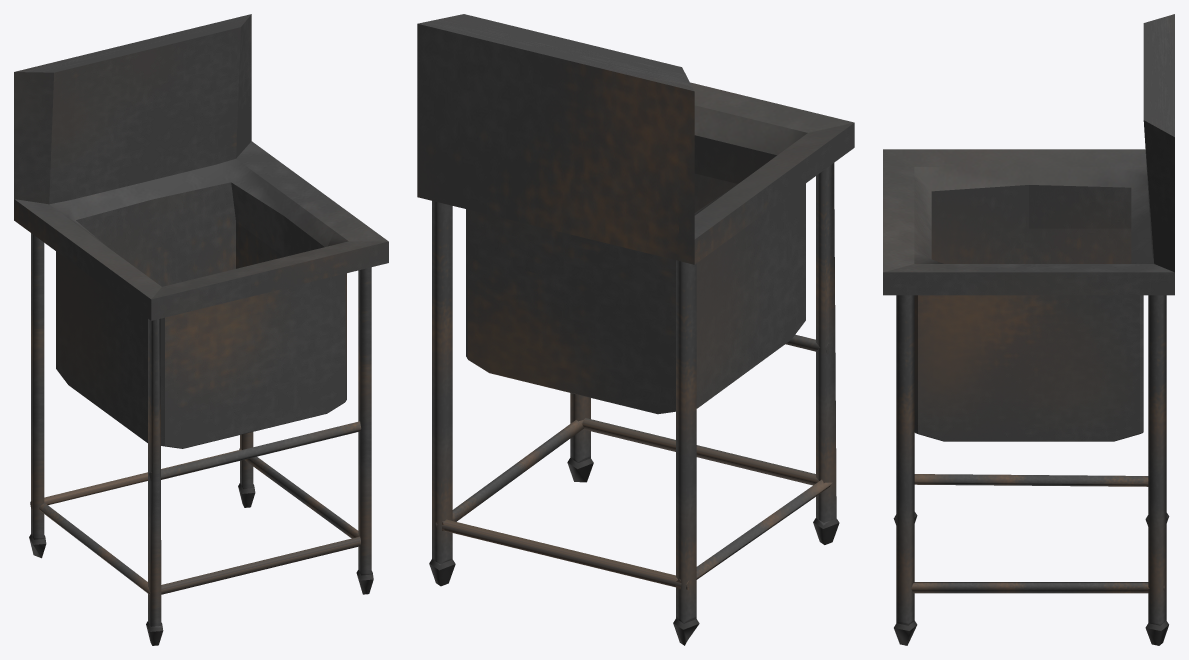
The model's file is 3dmodel_WashBasin_v1_bs.fbx.
3 renders of one model, left to right at view 1: azimuth 30°, elevation 25°; view 2: azimuth 150°, elevation 25°; view 3: azimuth 270°, elevation 25°, orthographic. The views are drawn at different scales.
Visible parts, largest first — view 1: WaterBasin; view 2: WaterBasin; view 3: WaterBasin.
Part boxes in pixels (bbox=[...]): WaterBasin: bbox=[14, 14, 388, 645]; WaterBasin: bbox=[417, 14, 854, 645]; WaterBasin: bbox=[883, 14, 1174, 645].
Size of the model in its own units: 1.27 by 2.49 by 1.27.
